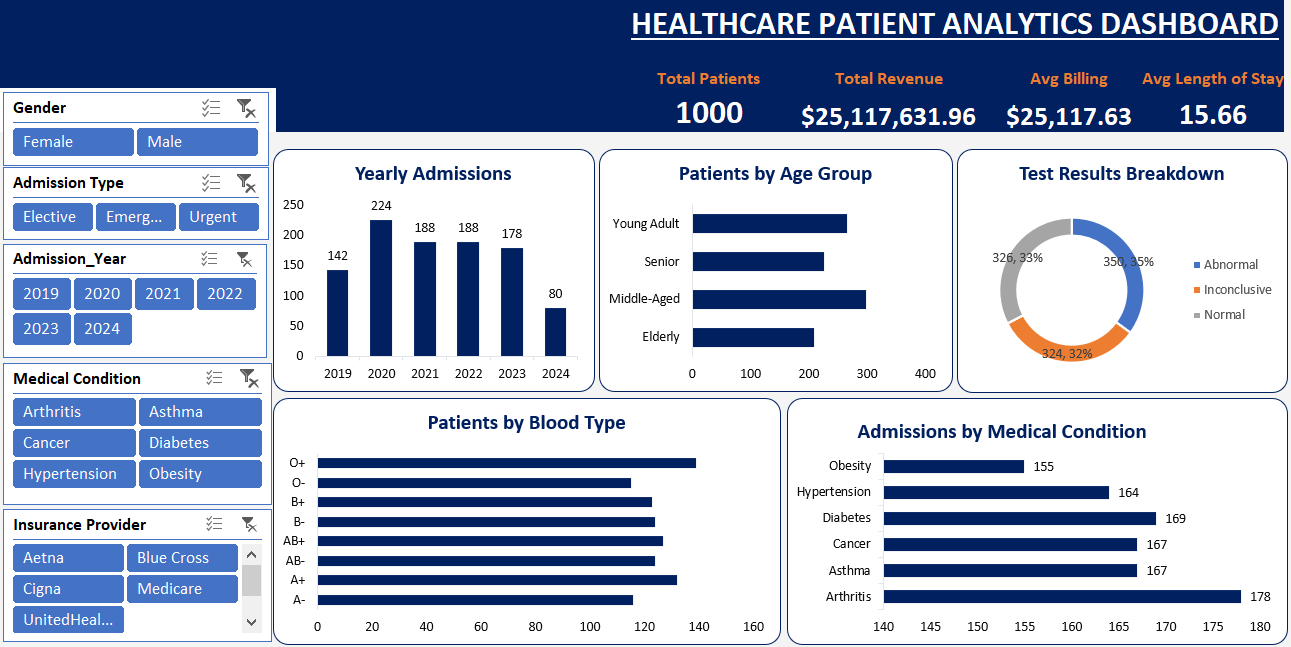

Layout of this report page (visuals, bound fields, positions):
{"tool":"powerbi","page":{"name":"Overview","canvas":[1420,920],"ordinal":0},"visuals":[{"type":"textbox","box":[24.7,20,1367.4,91],"z":0},{"type":"textbox","box":[24.7,87.9,1367.4,44.7],"z":1000},{"type":"slicer","title":"Year","fields":{"Values":["DateTable.Year"]},"box":[24.7,229.7,112.5,70.9],"z":2000},{"type":"slicer","title":"Medical Condition","fields":{"Values":["healthcare_final.medical_condition"]},"box":[139.5,229.7,175.7,70.9],"z":3000},{"type":"slicer","title":"Admission Type","fields":{"Values":["healthcare_final.admission_type"]},"box":[235.9,155.7,191.2,69.4],"z":4000},{"type":"slicer","title":"Gender","fields":{"Values":["healthcare_final.gender"]},"box":[317.6,229.7,109.5,70.9],"z":5000},{"type":"slicer","title":"Insurance Provider ","fields":{"Values":["healthcare_final.insurance_provider"]},"box":[24.7,155.7,211.2,69.4],"z":6000},{"type":"cardVisual","title":"Total Patients ","fields":{"Data":["healthcare_final.Total Patients"]},"box":[437.8,155.7,180.4,111],"z":7000},{"type":"cardVisual","title":"Total Revenue ","fields":{"Data":["healthcare_final.Total Revenue"]},"box":[622.8,155.7,180.4,111],"z":8000},{"type":"cardVisual","title":"Total Billing ","fields":{"Data":["healthcare_final.Avg Billing"]},"box":[807.8,155.7,188.1,111],"z":9000},{"type":"cardVisual","title":"Total Length of Stay ","fields":{"Data":["healthcare_final.Avg Length of Stay"]},"box":[1179.3,155.7,212.7,111],"z":10000},{"type":"cardVisual","title":"Emergency Rate","fields":{"Data":["healthcare_final.Emergency Rate %"]},"box":[998.9,155.7,175.7,111],"z":11000},{"type":"columnChart","title":"Yearly Admissions Trend","fields":{"Category":["DateTable.Year"],"Y":["healthcare_final.Total Patients"]},"box":[24.7,311.4,413.1,275.9],"z":12000},{"type":"donutChart","title":"Test Results Breakdown","fields":{"Y":["healthcare_final.Total Patients"],"Category":["healthcare_final.test_results"]},"box":[1019,277.5,373.1,289.8],"z":13000},{"type":"clusteredBarChart","title":"Admissions by Medical Condition","fields":{"Category":["healthcare_final.medical_condition"],"Y":["healthcare_final.Total Patients"]},"box":[24.7,587.3,413.1,312.9],"z":14000},{"type":"clusteredBarChart","title":"Patients by Age Group","fields":{"Category":["healthcare_final.age_group"],"Y":["healthcare_final.Total Patients"]},"box":[1019,567.3,373.1,333],"z":16000},{"type":"pivotTable","title":"Insurance provider vs Medical Condition (count of patients)","fields":{"Rows":["healthcare_final.medical_condition"],"Columns":["healthcare_final.insurance_provider"],"Values":["healthcare_final.Total Patients"]},"box":[437.8,644.4,581.2,255.9],"z":18000},{"type":"barChart","fields":{"Category":["healthcare_final.blood_type"],"Y":["healthcare_final.Total Patients"]},"box":[437.8,277.5,581.2,366.9],"z":19000}]}

Visuals, with their boxes on the page's 1420x920 design canvas (x1, y1, x2, y2). These are canvas units, not pixel positions in the 1291x647 screenshot, which may show the page scaled, cropped or inside an application window:
textbox: [left=25, top=20, right=1392, bottom=111]
textbox: [left=25, top=88, right=1392, bottom=133]
"Year" slicer: [left=25, top=230, right=137, bottom=301]
"Medical Condition" slicer: [left=140, top=230, right=315, bottom=301]
"Admission Type" slicer: [left=236, top=156, right=427, bottom=225]
"Gender" slicer: [left=318, top=230, right=427, bottom=301]
"Insurance Provider " slicer: [left=25, top=156, right=236, bottom=225]
"Total Patients " cardVisual: [left=438, top=156, right=618, bottom=267]
"Total Revenue " cardVisual: [left=623, top=156, right=803, bottom=267]
"Total Billing " cardVisual: [left=808, top=156, right=996, bottom=267]
"Total Length of Stay " cardVisual: [left=1179, top=156, right=1392, bottom=267]
"Emergency Rate" cardVisual: [left=999, top=156, right=1175, bottom=267]
"Yearly Admissions Trend" columnChart: [left=25, top=311, right=438, bottom=587]
"Test Results Breakdown" donutChart: [left=1019, top=278, right=1392, bottom=567]
"Admissions by Medical Condition" clusteredBarChart: [left=25, top=587, right=438, bottom=900]
"Patients by Age Group" clusteredBarChart: [left=1019, top=567, right=1392, bottom=900]
"Insurance provider vs Medical Condition (count of patients)" pivotTable: [left=438, top=644, right=1019, bottom=900]
barChart - healthcare_final.blood_type x healthcare_final.Total Patients: [left=438, top=278, right=1019, bottom=644]
